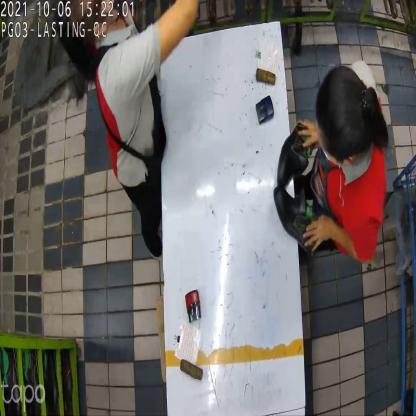shoes: (270, 121, 324, 261)
stamp: (184, 290, 203, 326), (256, 94, 274, 127)
